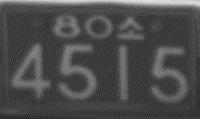0: (83, 13, 113, 39)
1: (106, 43, 142, 101)
4: (10, 42, 51, 99)
5: (57, 43, 98, 101), (150, 45, 188, 104)
8: (52, 12, 80, 39)
소: (116, 15, 145, 41)
